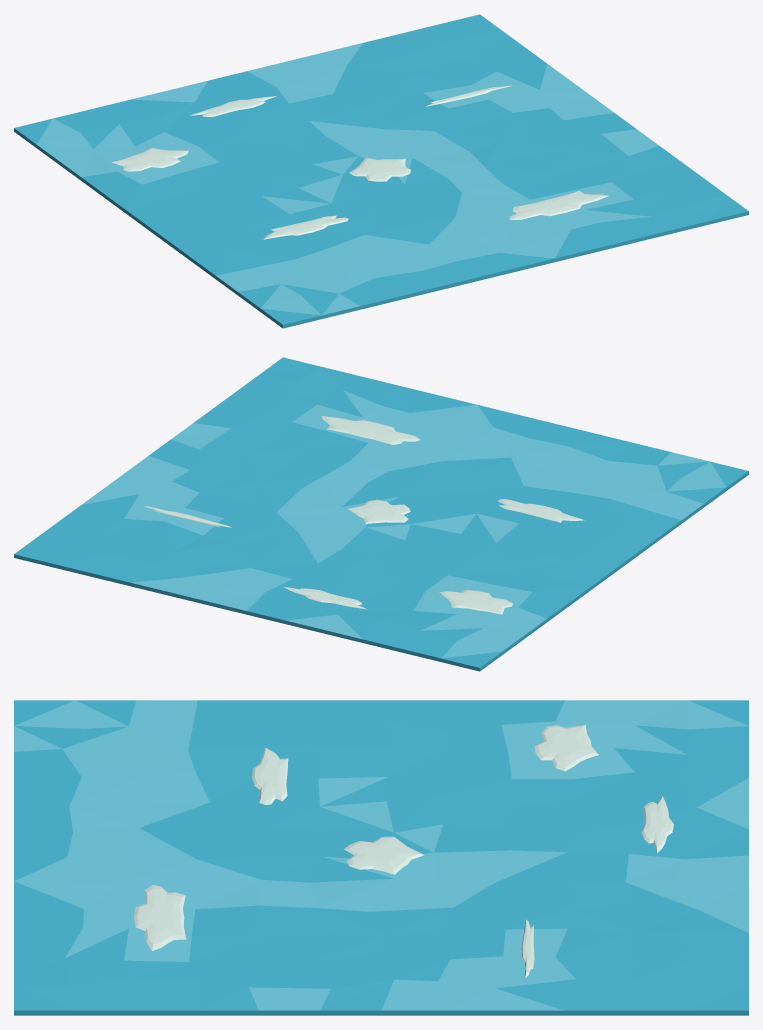
Rendered from B06_WaterSurface.fbx.
3 views of the same model, one above another, from view 1: azimuth 30°, elevation 25°; view 2: azimuth 150°, elevation 25°; view 3: azimuth 270°, elevation 25° (orthographic). The views are drawn at different scales.
Parts seen in each view (by area): view 1: B06_WaterSurface_Plane, B06_WaterSurface_Foam; view 2: B06_WaterSurface_Plane, B06_WaterSurface_Foam; view 3: B06_WaterSurface_Plane, B06_WaterSurface_Foam.
Part boxes in pixels (x1=…): B06_WaterSurface_Plane: x1=14, y1=14, x2=748, y2=328; B06_WaterSurface_Foam: x1=112, y1=85, x2=608, y2=239; B06_WaterSurface_Plane: x1=14, y1=357, x2=748, y2=671; B06_WaterSurface_Foam: x1=145, y1=416, x2=584, y2=614; B06_WaterSurface_Plane: x1=14, y1=700, x2=748, y2=1015; B06_WaterSurface_Foam: x1=134, y1=725, x2=673, y2=977.
Size of the model in its own units: 20 by 0.21 by 20.
